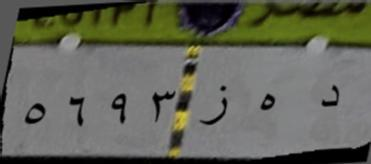3: (144, 86, 176, 124)
5: (17, 96, 48, 132)
6: (66, 93, 89, 131)
9: (106, 84, 136, 130)
daal: (312, 67, 346, 118)
haa: (245, 86, 284, 122)
zay: (199, 82, 232, 132)
